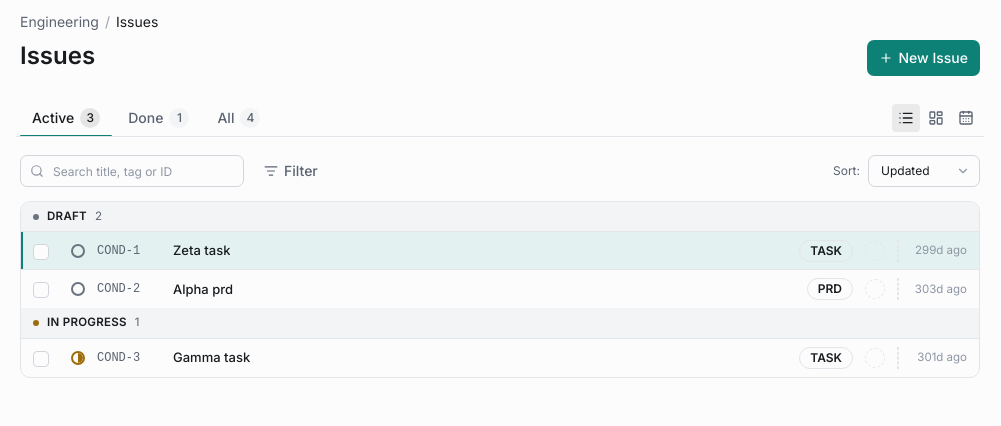
Test: tab counts + filtering › shows a filtered-empty state with a Clear filters affordance
What coordinates should you click on to do the following:
click the button "Filter"
I would click on:
 (291, 171)
Its box is 252,153 -> 330,189.
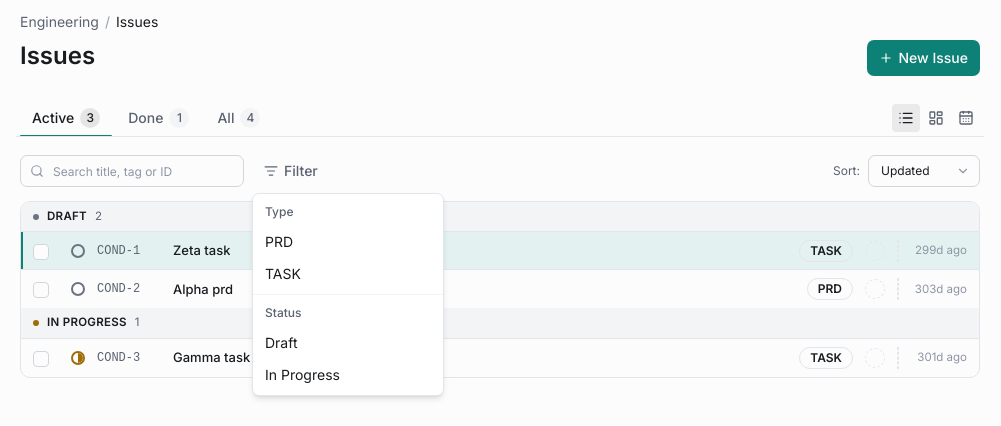
What coordinates should you click on to do the following:
click the menu item "PRD"
I would click on:
 (279, 242)
Its box is 265,233 -> 293,250.
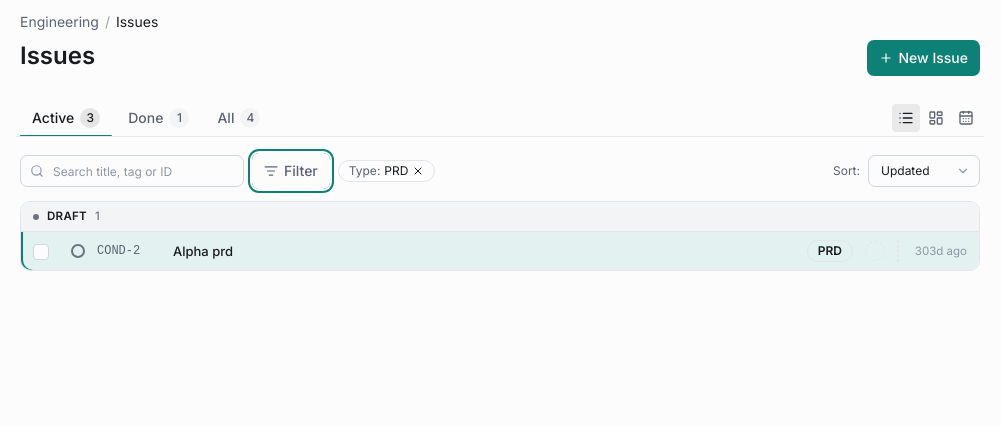
What coordinates should you click on to do the following:
click the button "Filter"
I would click on:
 (291, 171)
Its box is 252,153 -> 330,189.
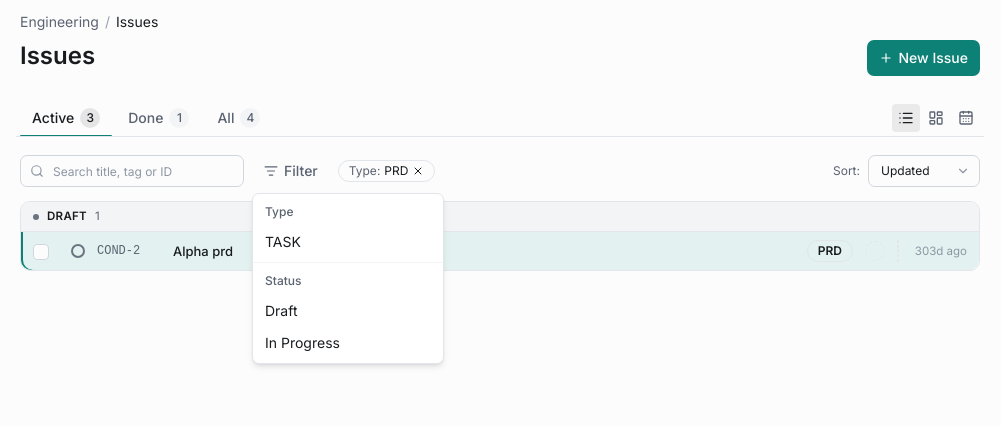
What coordinates should you click on to do the following:
click the menu item "In Progress"
I would click on:
 (302, 342)
Its box is 265,334 -> 340,351.
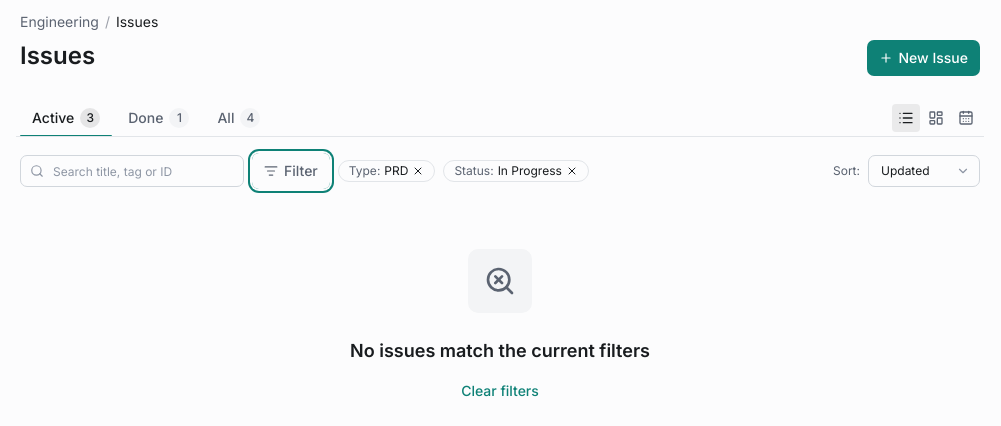
Now the heading "No issues match the current filters" is shown, box 350,337 -> 650,365
What coordinates should you click on to do the following:
click the button "Clear filters"
I would click on:
 (500, 391)
Its box is 449,373 -> 551,409.
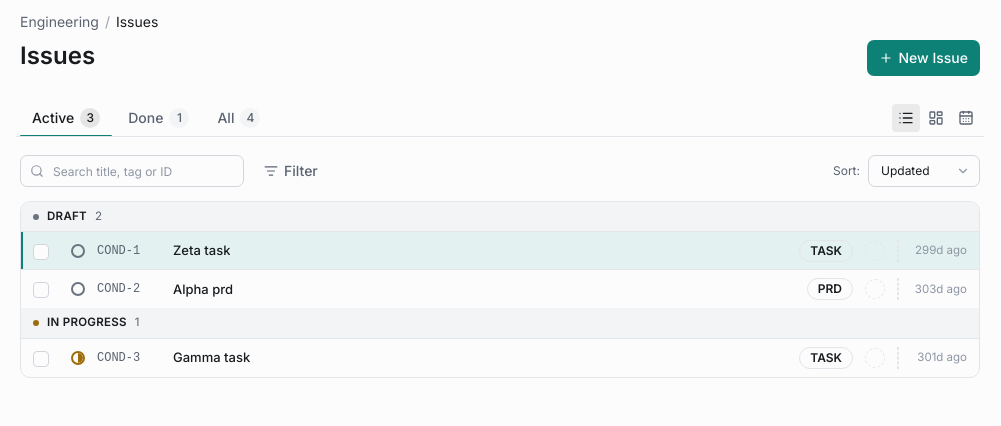
Now the number of links is 3, box 97,242 -> 230,258; 97,280 -> 233,296; 97,349 -> 250,365
